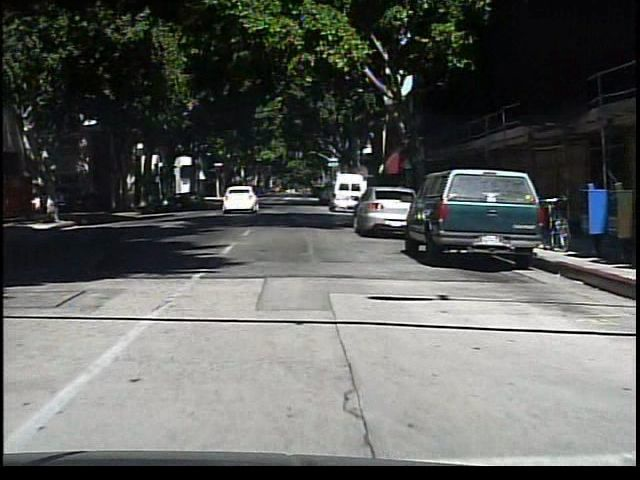person: (47, 178, 64, 222), (294, 178, 313, 206)
